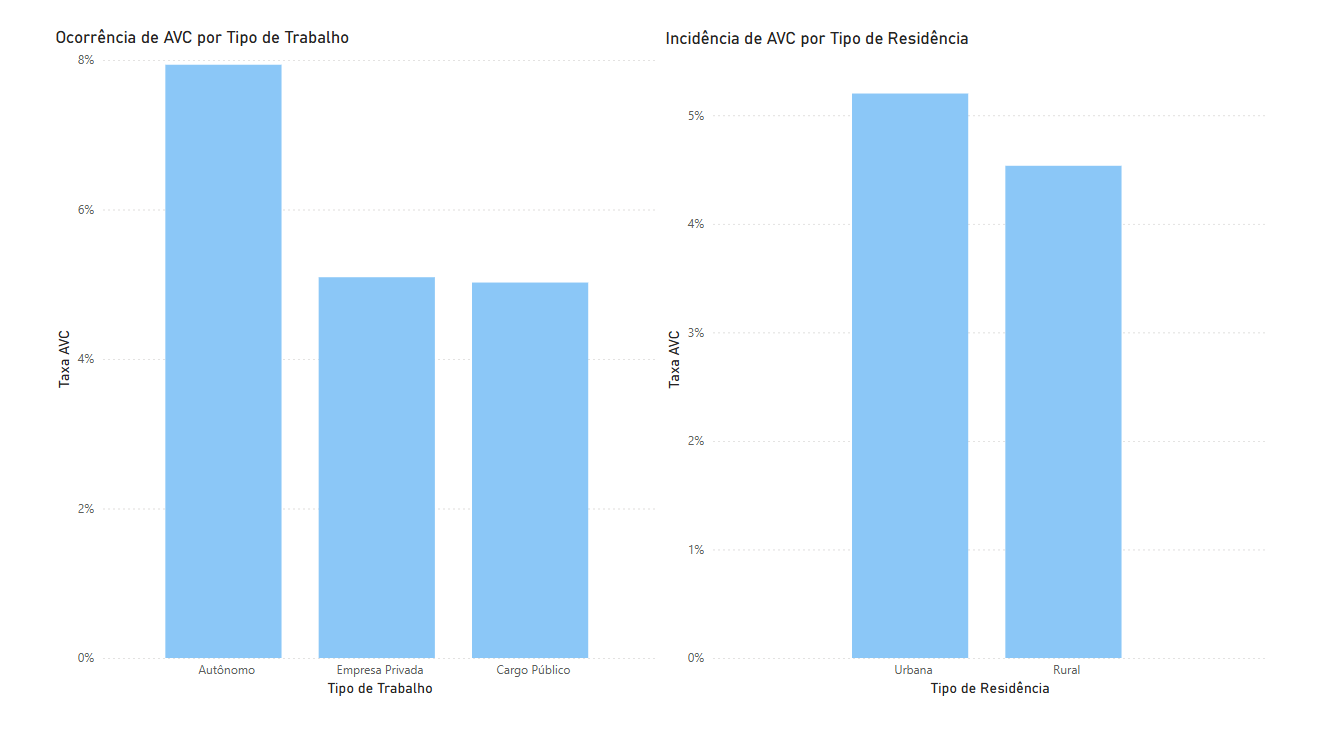

What the dashboard file says about the page in this screenshot:
{"tool":"powerbi","page":{"name":"Página 3","canvas":[1280,720],"ordinal":2},"visuals":[{"type":"clusteredColumnChart","title":"Ocorrência de AVC por Tipo de Trabalho","fields":{"Y":["public pacientes_avc.Taxa AVC"],"Category":["public pacientes_avc.Tipo de Trabalho"]},"box":[29.9,22.7,610.3,673.8],"z":0},{"type":"clusteredColumnChart","title":"Incidência de AVC por Tipo de Residência","fields":{"Y":["public pacientes_avc.Taxa AVC"],"Category":["public pacientes_avc.Tipo de Residência"]},"box":[640.2,22.7,609.4,673.8],"z":1000}]}

Visuals, with their boxes in screenshot pixels (x1, y1, x2, y2), scaled from the page's 1280x720 canvas onto the 1331x733 screenshot:
"Ocorrência de AVC por Tipo de Trabalho" clusteredColumnChart: Rect(31, 23, 666, 709)
"Incidência de AVC por Tipo de Residência" clusteredColumnChart: Rect(666, 23, 1299, 709)
